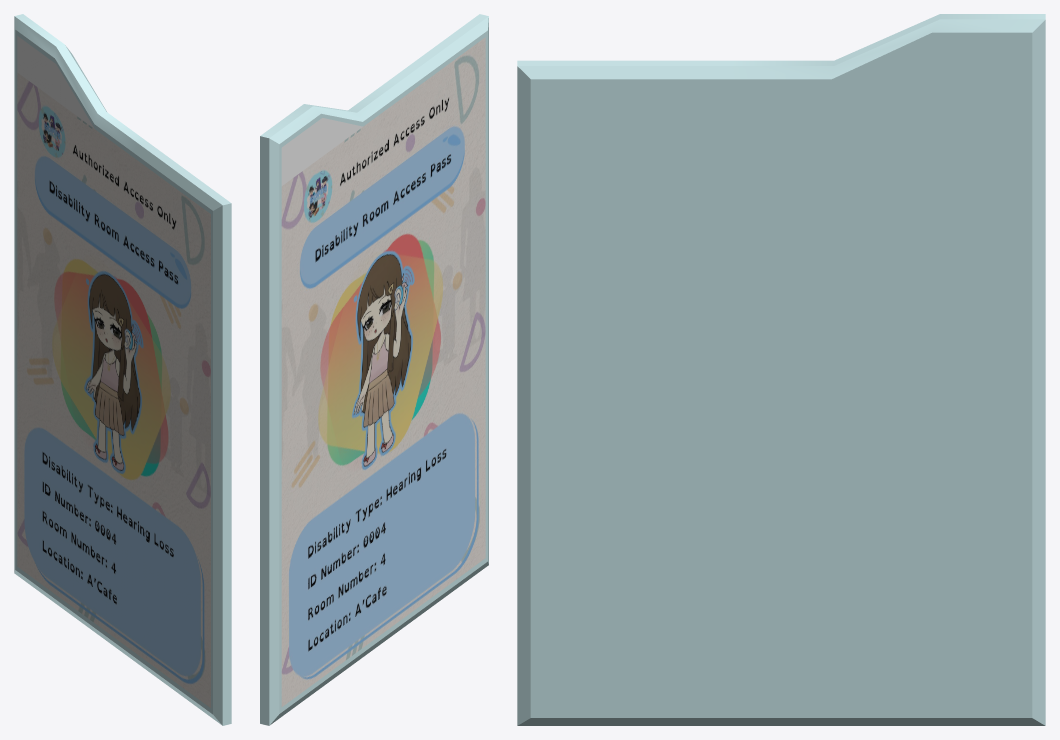
The model's file is HearingCard.fbx.
3 renders of one model, left to right at view 1: azimuth 30°, elevation 25°; view 2: azimuth 150°, elevation 25°; view 3: azimuth 270°, elevation 25°, orthographic. The views are drawn at different scales.
Visible parts, largest first — view 1: pCube37; view 2: pCube37; view 3: pCube37.
Part boxes in pixels (x1,y1,x2,y2): pCube37: (14, 14, 231, 725); pCube37: (260, 14, 488, 725); pCube37: (517, 14, 1045, 725).
Bounding box in the file's own units: 1.34 × 40.99 × 27.78.
3 materials, 1 textured.
